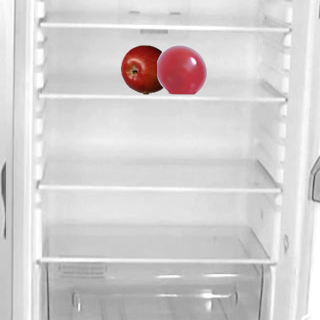Apple Braeburn: (120, 44, 170, 94)
Redcurrant: (156, 44, 206, 94)
